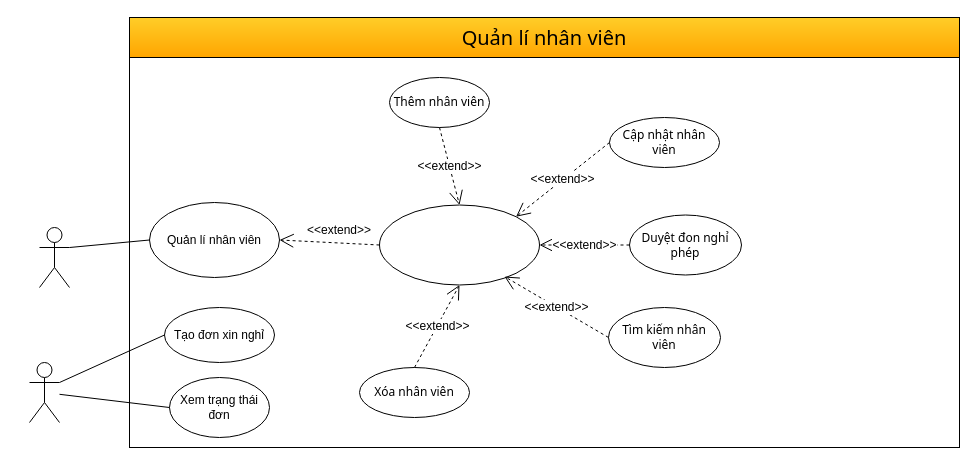
The diagram is 977 pixels wide and 465 high, and some of its shapes have lost their labels. Each missing label, with the centre of its shape:
Employee: point 44,392
Manager: point 54,257
Xem danh sách nhân viên: point 459,244
